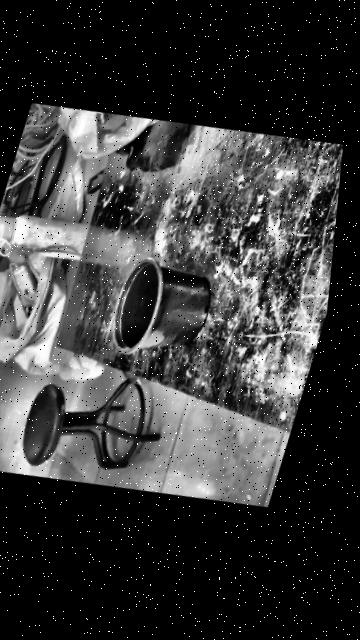pot: (102, 249, 221, 365)
